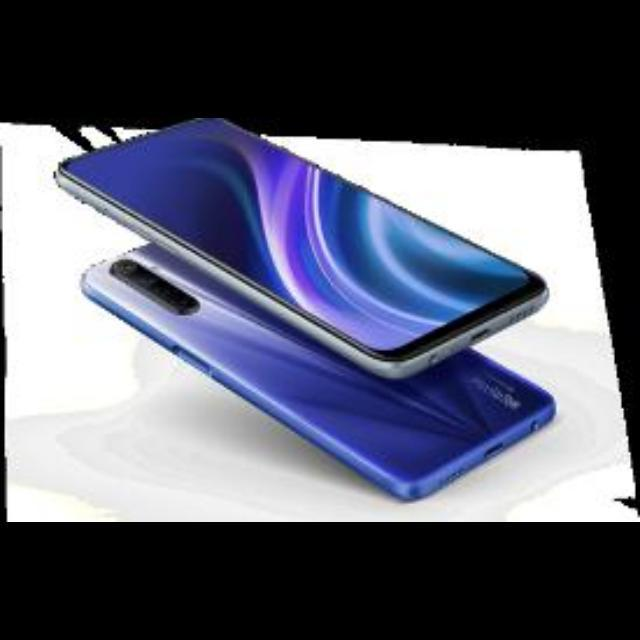Phone: (84, 242, 554, 492), (54, 118, 546, 356)
